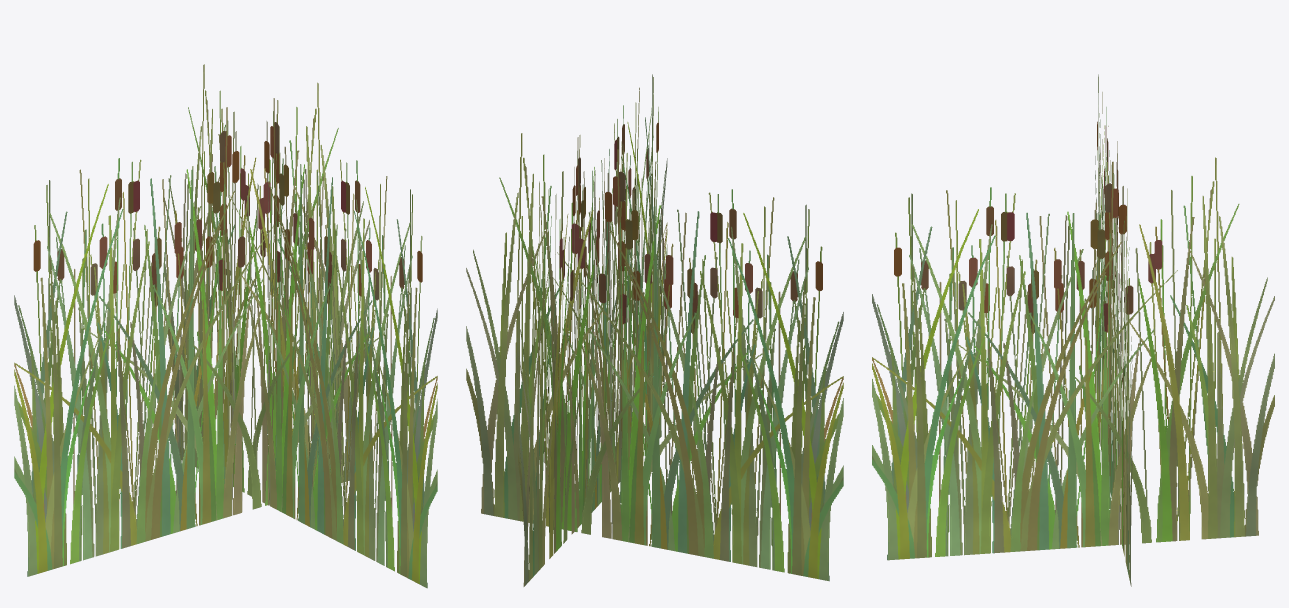
File: Reed_2_LOD2.gltf
3 views of the same model, side by side, from view 1: azimuth 30°, elevation 25°; view 2: azimuth 150°, elevation 25°; view 3: azimuth 270°, elevation 25° (orthographic). The views are drawn at different scales.
Parts seen in each view (by area): view 1: Reed_2_LOD2; view 2: Reed_2_LOD2; view 3: Reed_2_LOD2.
Part boxes in pixels (x1,y1,x2,y2): Reed_2_LOD2: (14,64,437,588); Reed_2_LOD2: (466,74,843,586); Reed_2_LOD2: (872,74,1274,586).
Bounding box in the file's own units: 1.39 × 1.55 × 1.38.
1 material, 1 textured.
